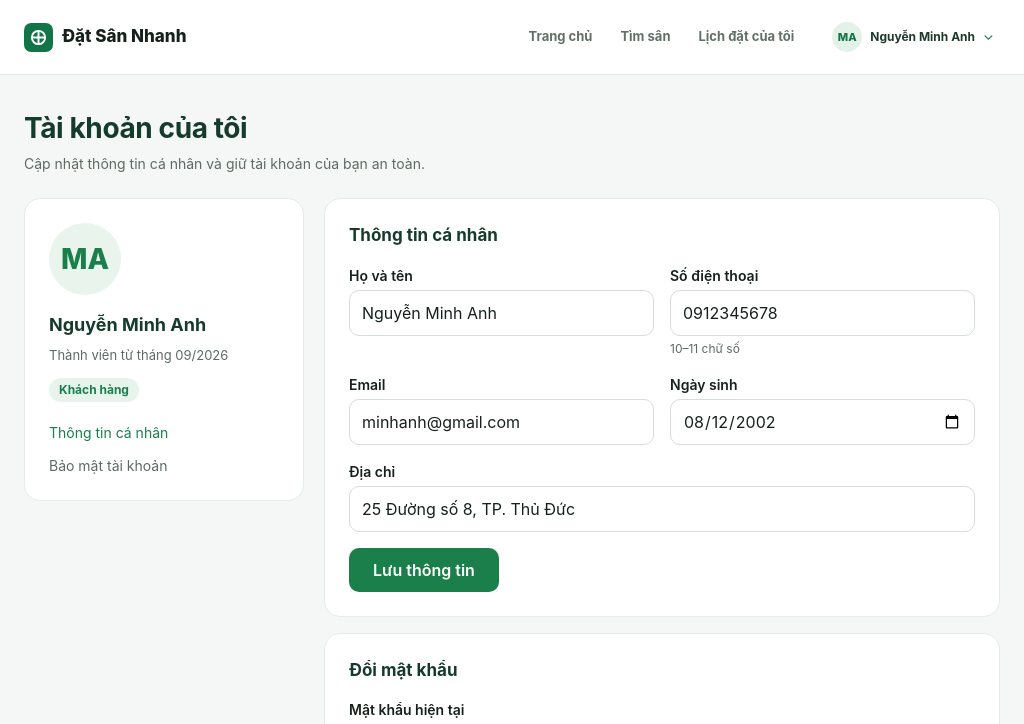
Test: AccountPage › không đổi gì thì không gọi server
The width and height of the screenshot is (1024, 724).
Expected: the field labelled "Họ và tên" is shown, [350,290,653,334]
Click the button "Lưu thông tin" at {"x": 424, "y": 570}, box [349,548,499,592]
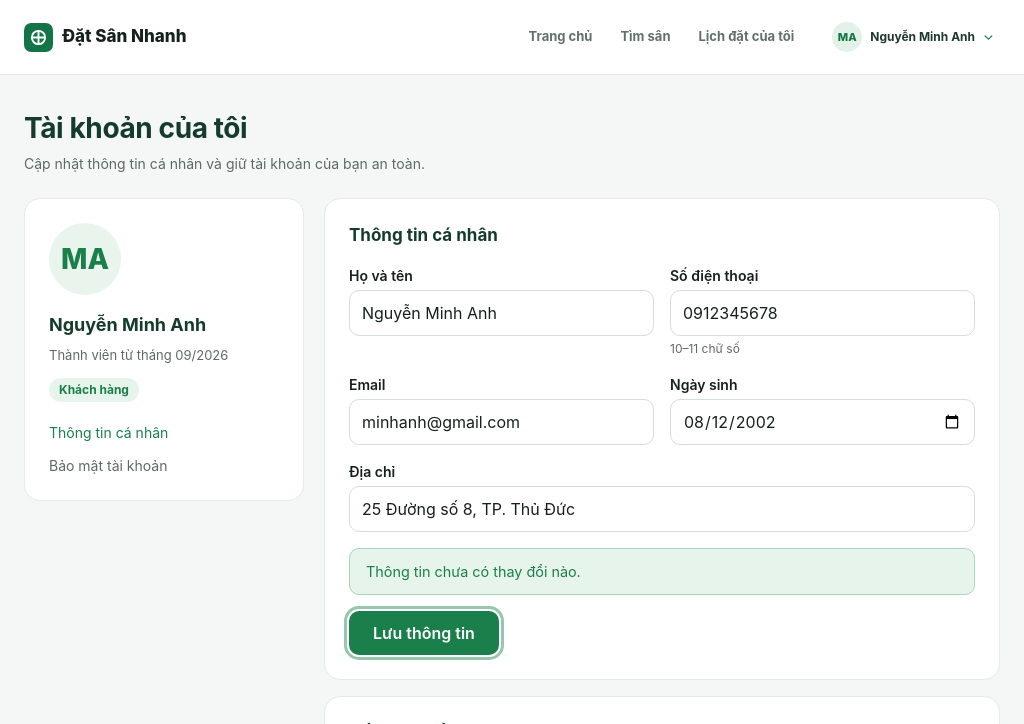
Result: the text "Thông tin chưa có thay đổi nào." is shown at [349,548,975,595]
